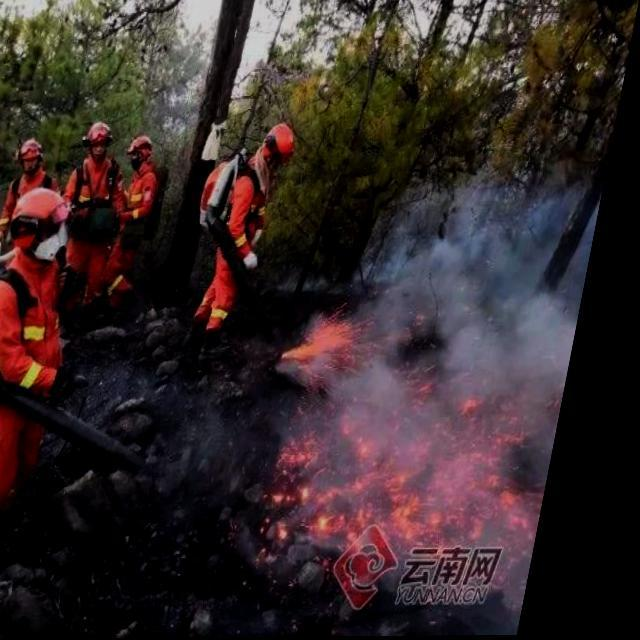Fire: (257, 304, 590, 602)
